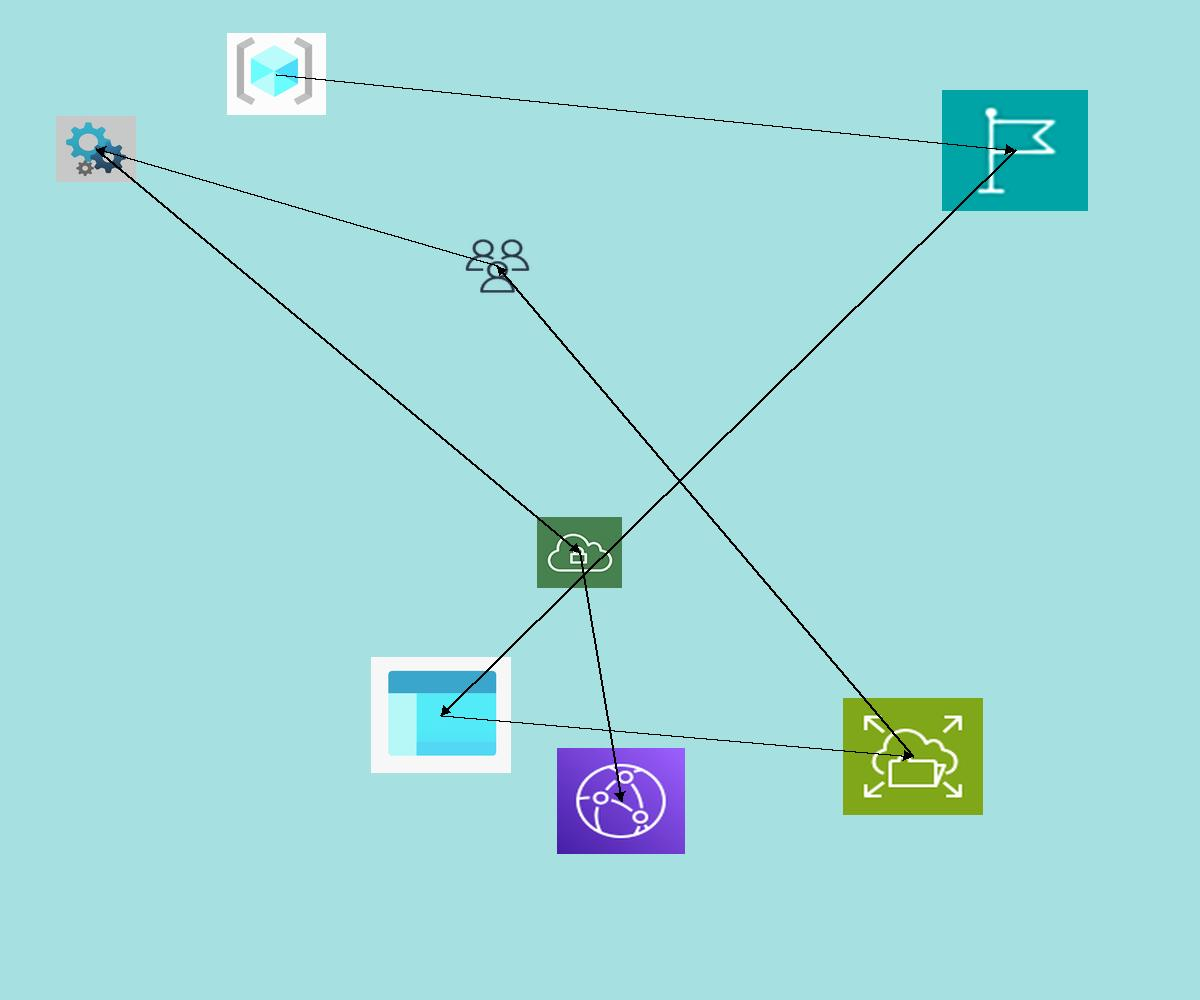AWS-CloudFront: (557, 748, 685, 854)
AWS-EFS: (843, 698, 983, 815)
AWS-Private_vpc: (537, 517, 622, 588)
AWS-Region: (942, 90, 1088, 211)
AWS-Res_Users: (463, 237, 532, 295)
Azure_api: (56, 116, 136, 182)
Azure_management-portal: (371, 657, 511, 773)
Azure_resource_group: (227, 33, 326, 115)
